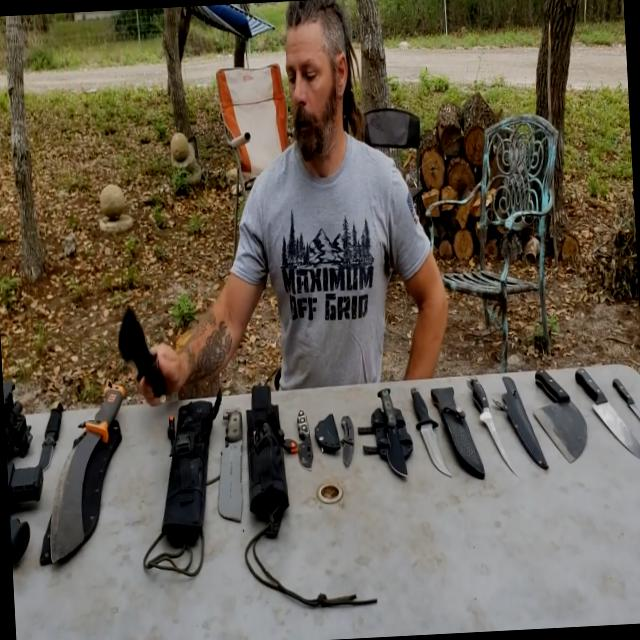knife: (29, 376, 148, 588), (520, 348, 596, 474), (570, 351, 639, 472), (462, 367, 524, 490), (204, 395, 256, 533), (106, 292, 168, 406), (401, 364, 457, 490), (367, 369, 409, 484), (31, 395, 68, 478), (290, 389, 320, 474), (610, 360, 639, 441), (330, 403, 362, 474)
